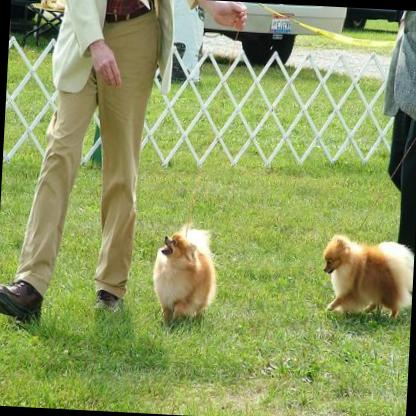Pomeranian: (311, 231, 413, 320), (149, 222, 218, 326)
